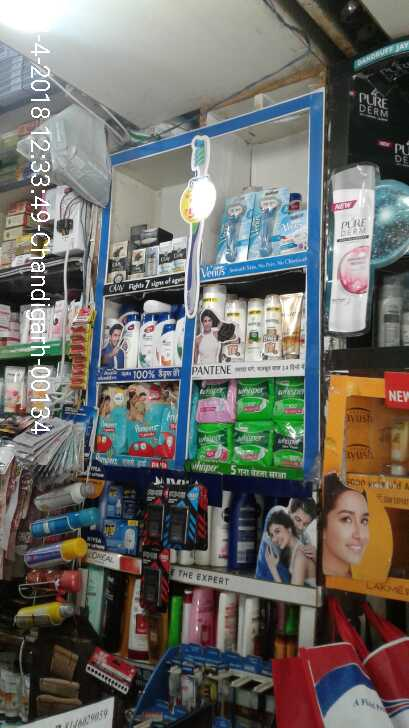venus: (216, 193, 249, 264), (250, 188, 280, 257), (280, 211, 308, 252)
